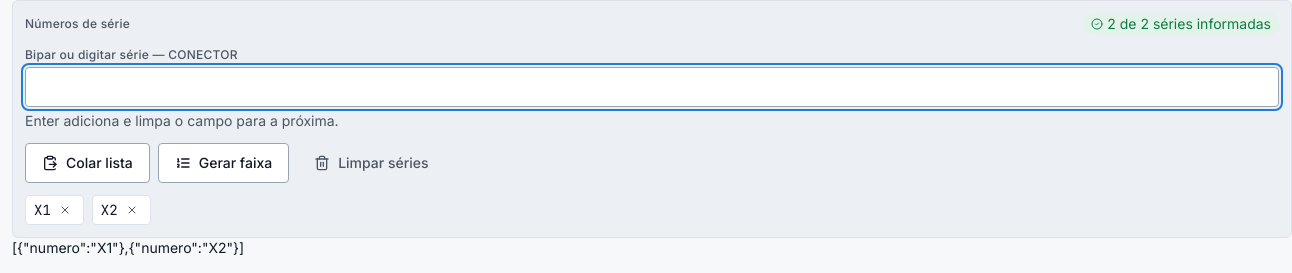
Scenario: EntradaSeries › remover uma serie atualiza o contador
The width and height of the screenshot is (1292, 273).
Expected: the text "2 de 2 séries informadas" is shown, [1107,14,1271,34]
Click the button named "Remover série X1". click: (65,210)
box: [55,200,75,220]
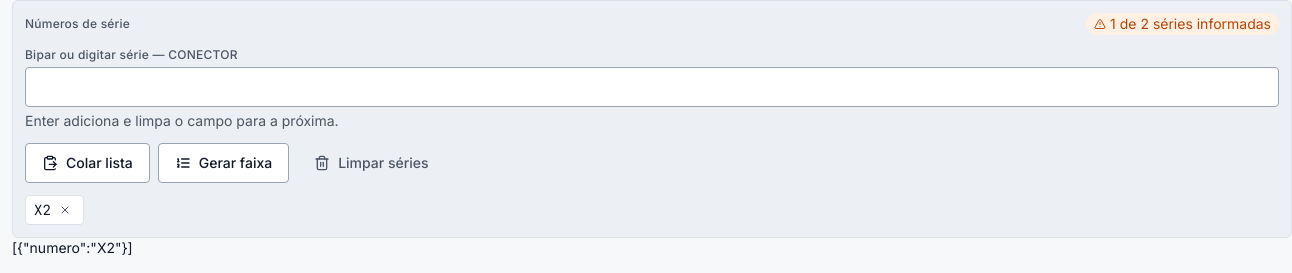
Now the text "1 de 2 séries informadas" is shown, box [1110,14,1271,34]
